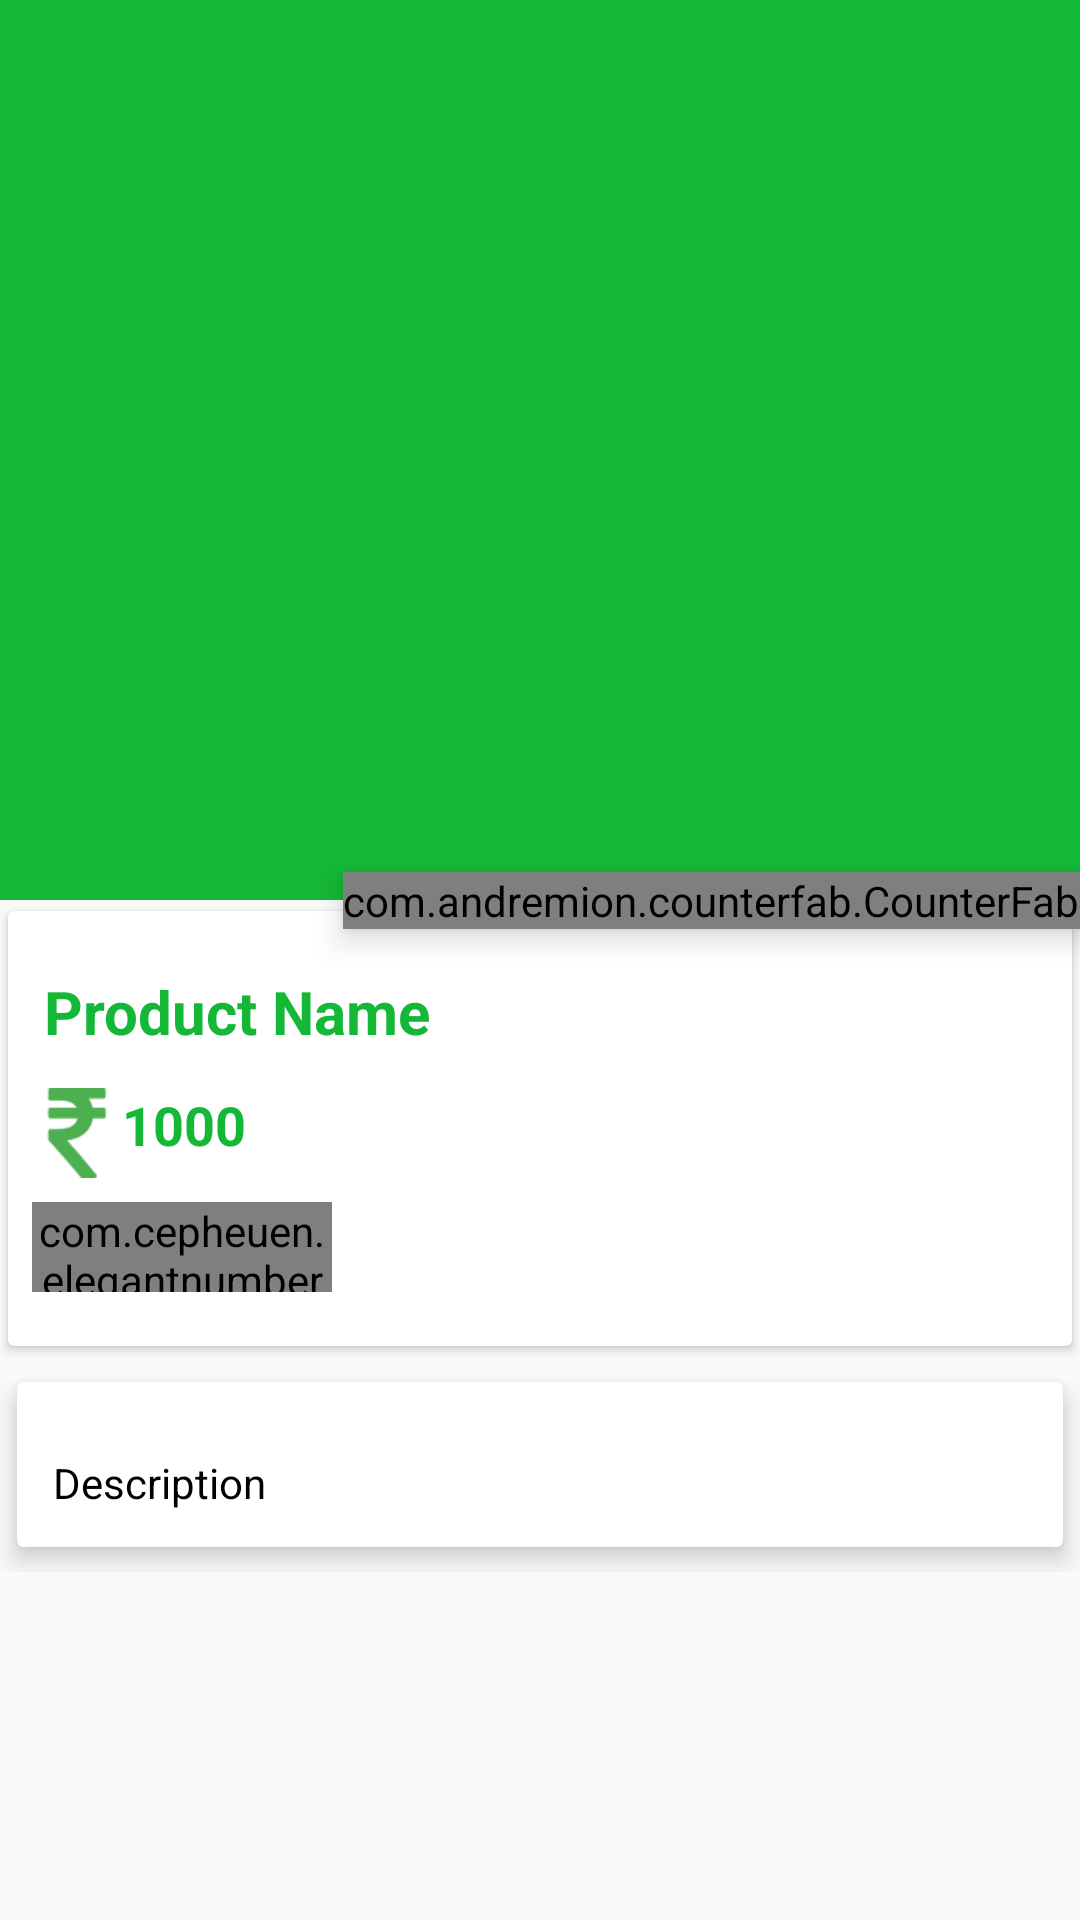

Icon click points for this 1080w x 1920h phone screenshot, format [x,y]:
money: [77,1133]
